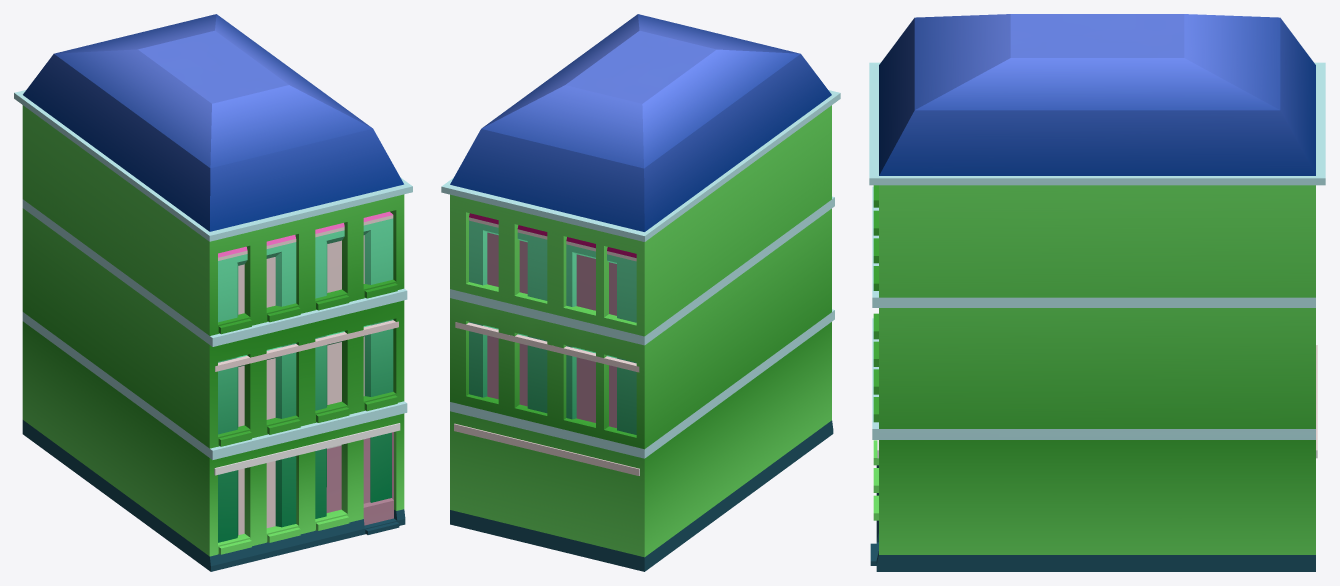
The model's file is Grachten_Huisjes.fbx.
The picture shows the model from 3 angles, left to right: view 1: azimuth 30°, elevation 25°; view 2: azimuth 150°, elevation 25°; view 3: azimuth 270°, elevation 25°; orthographic projection. The views are drawn at different scales.
Parts seen in each view (by area): view 1: Rijtjeshuis_Groen-Blauw, Rijtjeshuis_Groen-Roze; view 2: Rijtjeshuis_Groen-Blauw, Rijtjeshuis_Groen-Roze; view 3: Rijtjeshuis_Groen-Blauw.
Boxes of the visible parts, bbox=[...] form: Rijtjeshuis_Groen-Blauw: bbox=[14, 14, 412, 571]; Rijtjeshuis_Groen-Roze: bbox=[214, 211, 400, 542]; Rijtjeshuis_Groen-Blauw: bbox=[441, 14, 840, 571]; Rijtjeshuis_Groen-Roze: bbox=[454, 213, 639, 475]; Rijtjeshuis_Groen-Blauw: bbox=[869, 14, 1325, 571].
Size of the model in its own units: 627 by 1214 by 1045.
